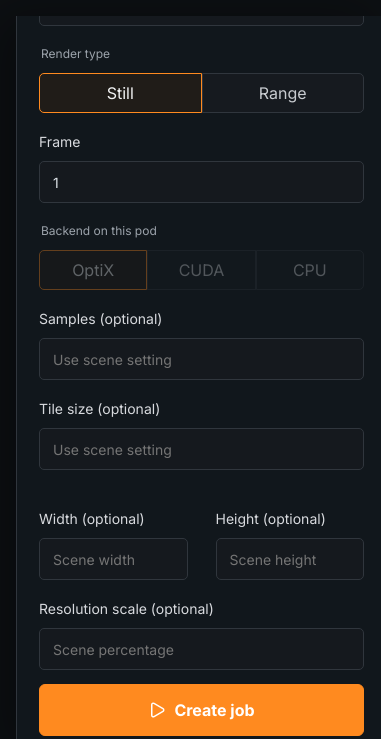
Test case: validates the resolution scale before submitting the render
(page scrolled)
Type "4096" into the number field labelled "Resolution scale (optional)" at (202, 649), box [39, 628, 364, 670]
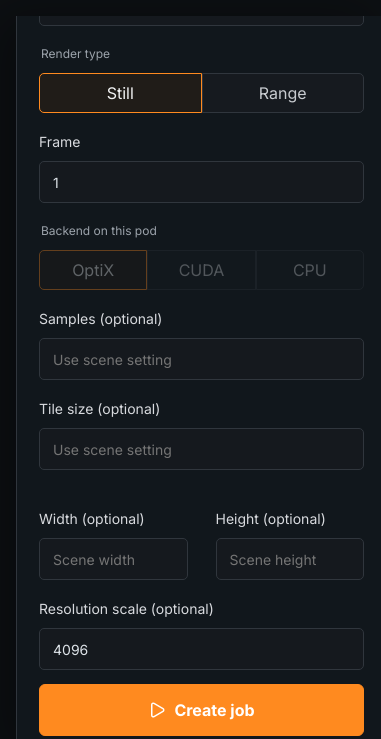
Click the button "Create job" at (202, 710), box [39, 684, 364, 736]
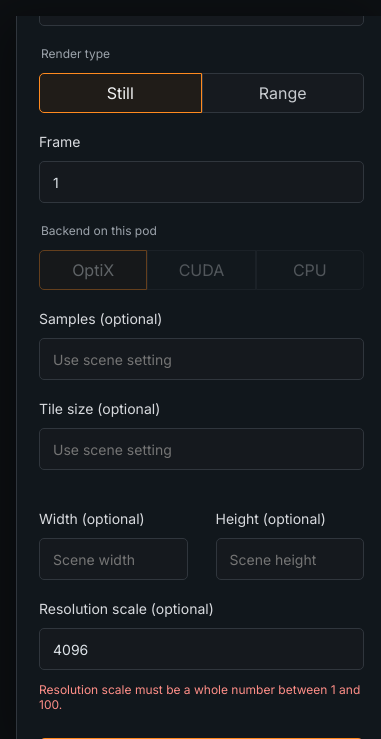
expect the text "Resolution scale must be a whole number between 1 and 100." is shown: met, box [39, 682, 364, 712]
